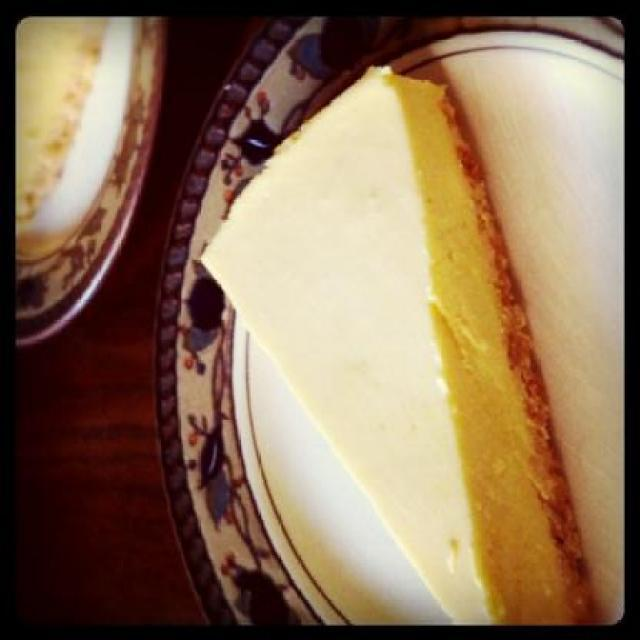Rare cheese cake: (188, 55, 620, 617)
